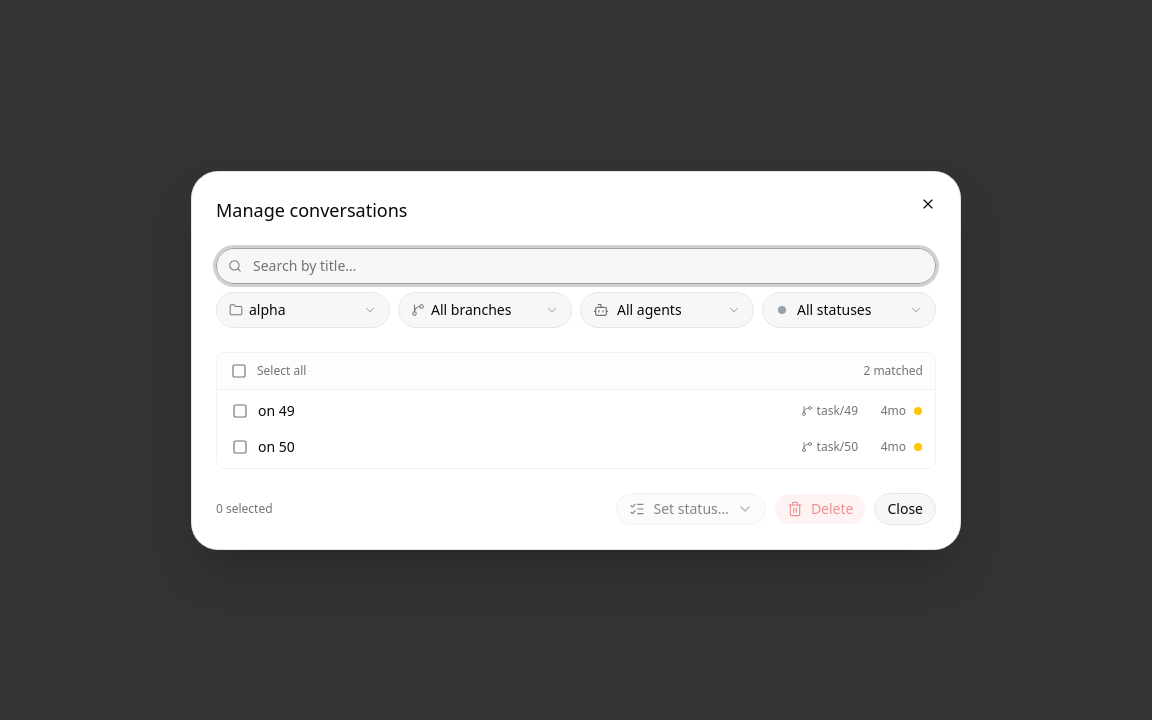
Test case: ConversationManageDialog › re-opens onto the picked branch's group rather than hiding its check
Expected: the text "on 49" is shown, [258,400,295,420]
Click the button "All branches" at (485, 310), box [398,292,572,328]
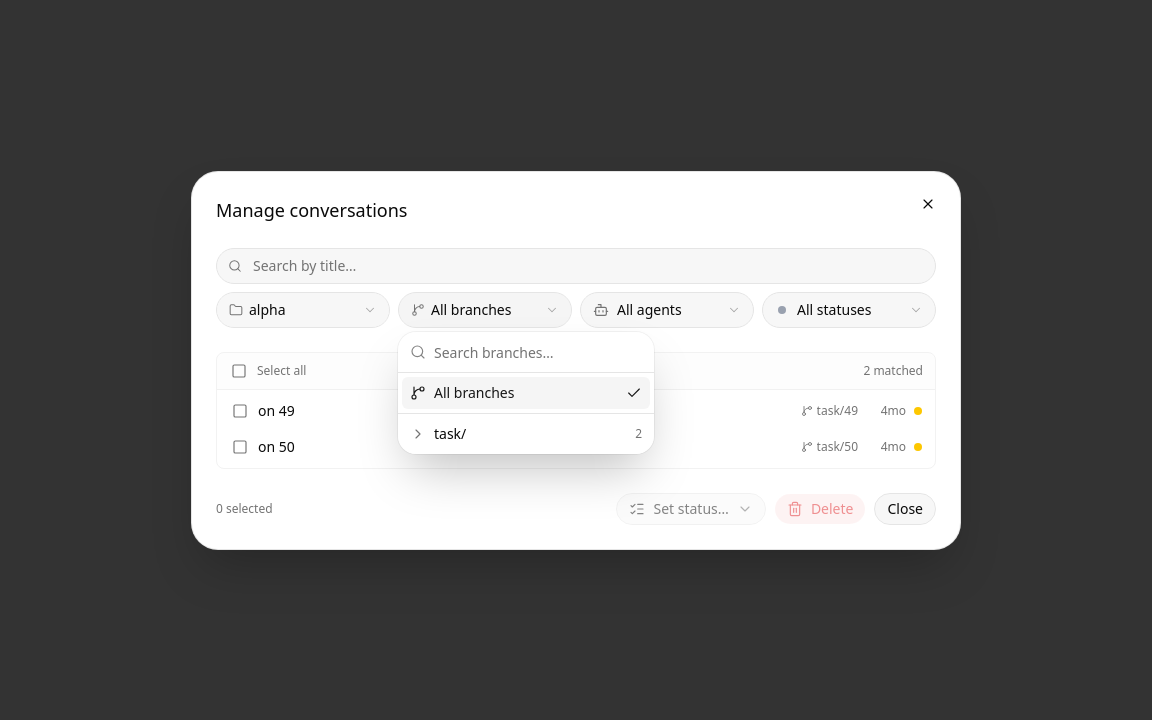
Click the option "task/ 2" at (450, 434), box [410,424,642,443]
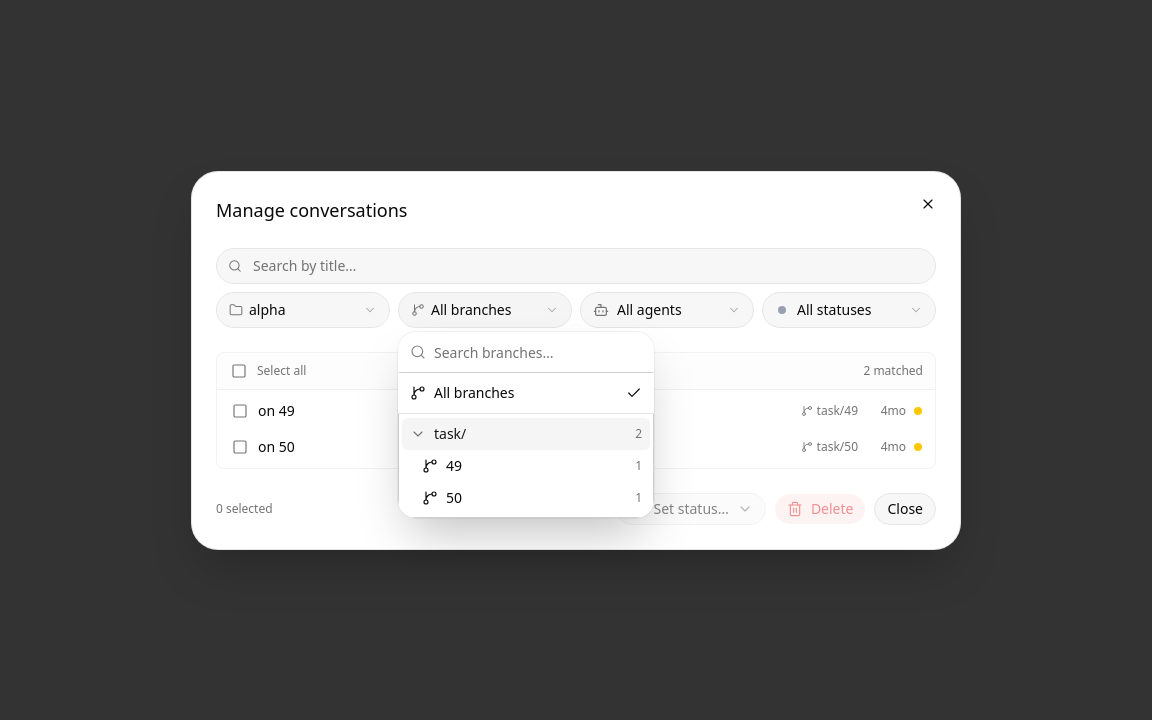
Click the option "49 1" at (430, 466), box [422,456,642,475]
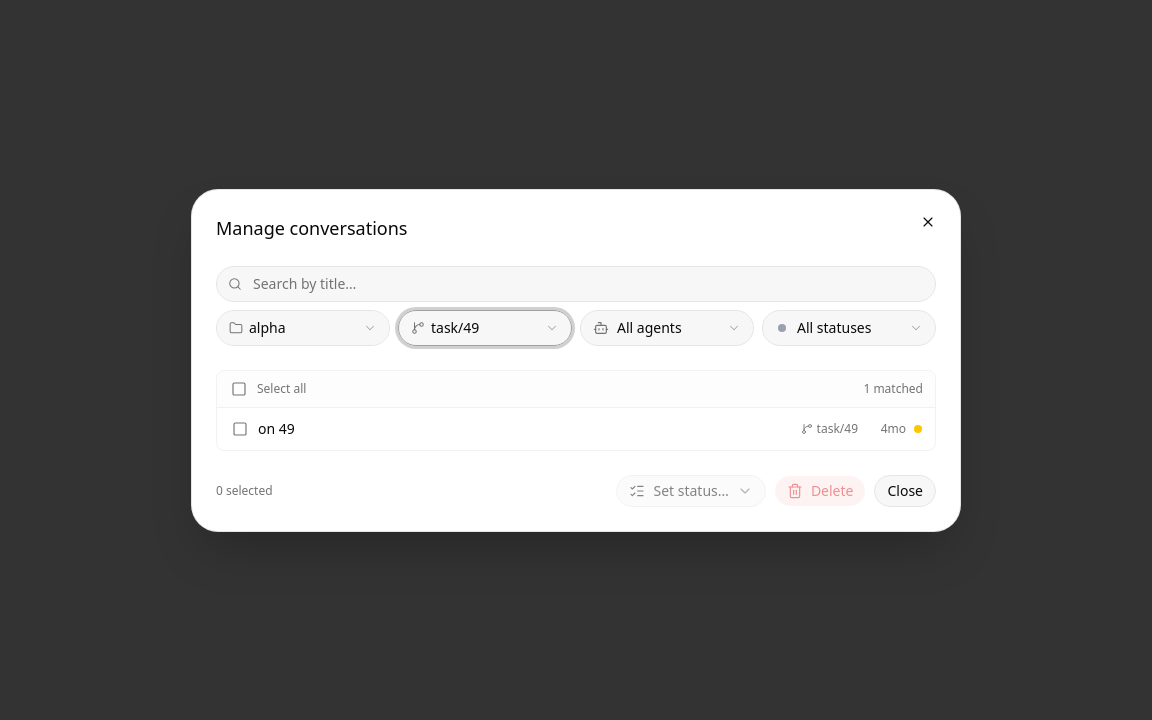
Click the button "task/49" at (485, 328), box [398,310,572,346]
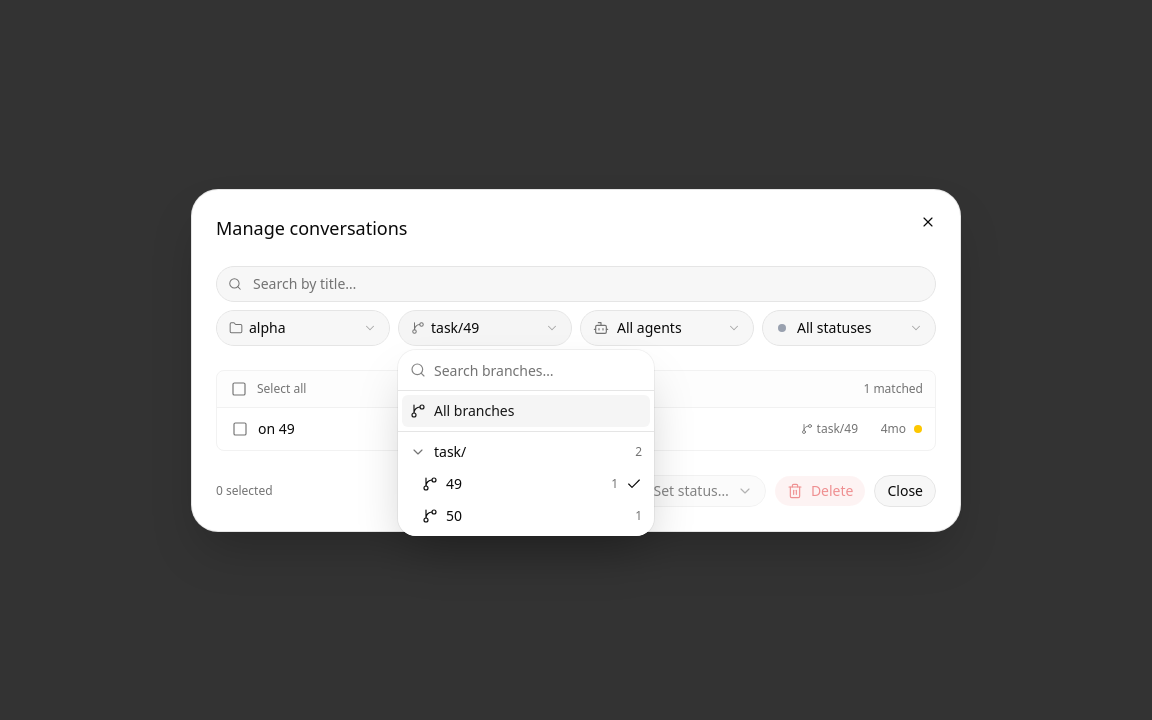
Result: the option "49 1" is shown at [422,474,642,493]
